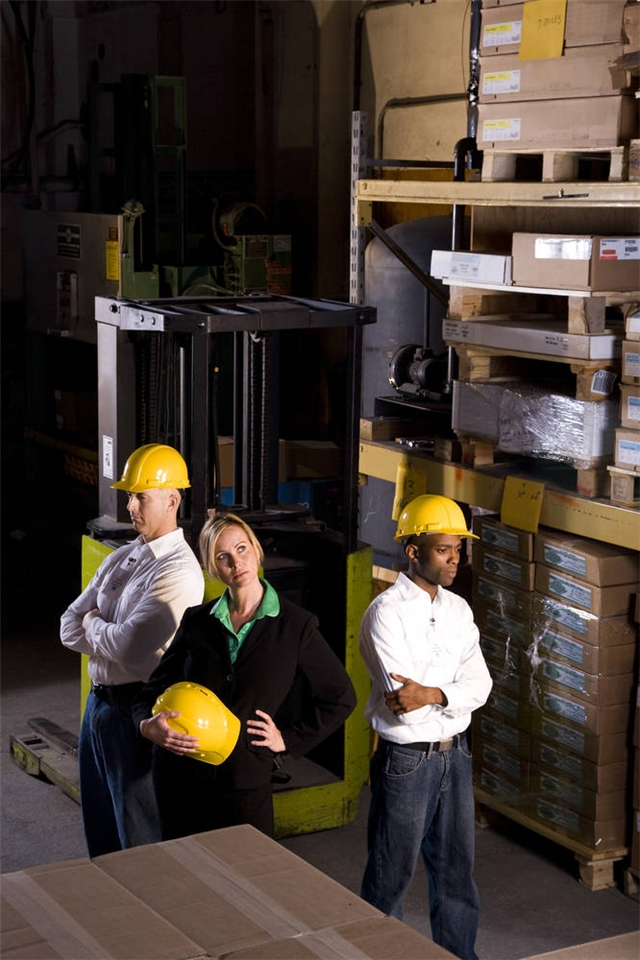hard-hat: (151, 681, 241, 766), (394, 492, 481, 543), (108, 442, 192, 491)
person: (130, 511, 357, 841), (358, 492, 494, 959), (58, 441, 205, 857)
